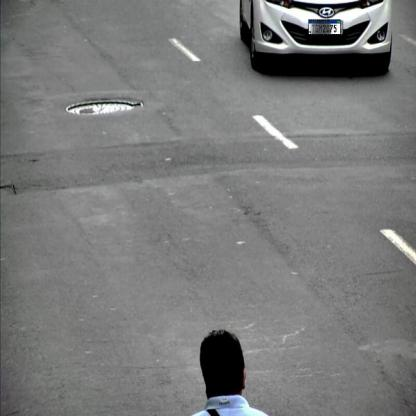PlacaM: (308, 19, 340, 35)
